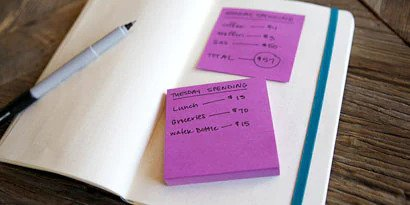Note: (161, 79, 277, 182), (197, 7, 304, 82)
